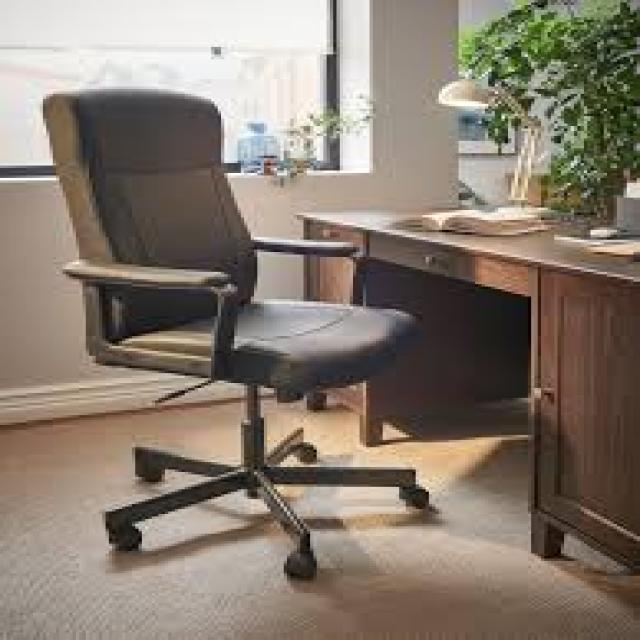chair: (13, 65, 479, 589)
